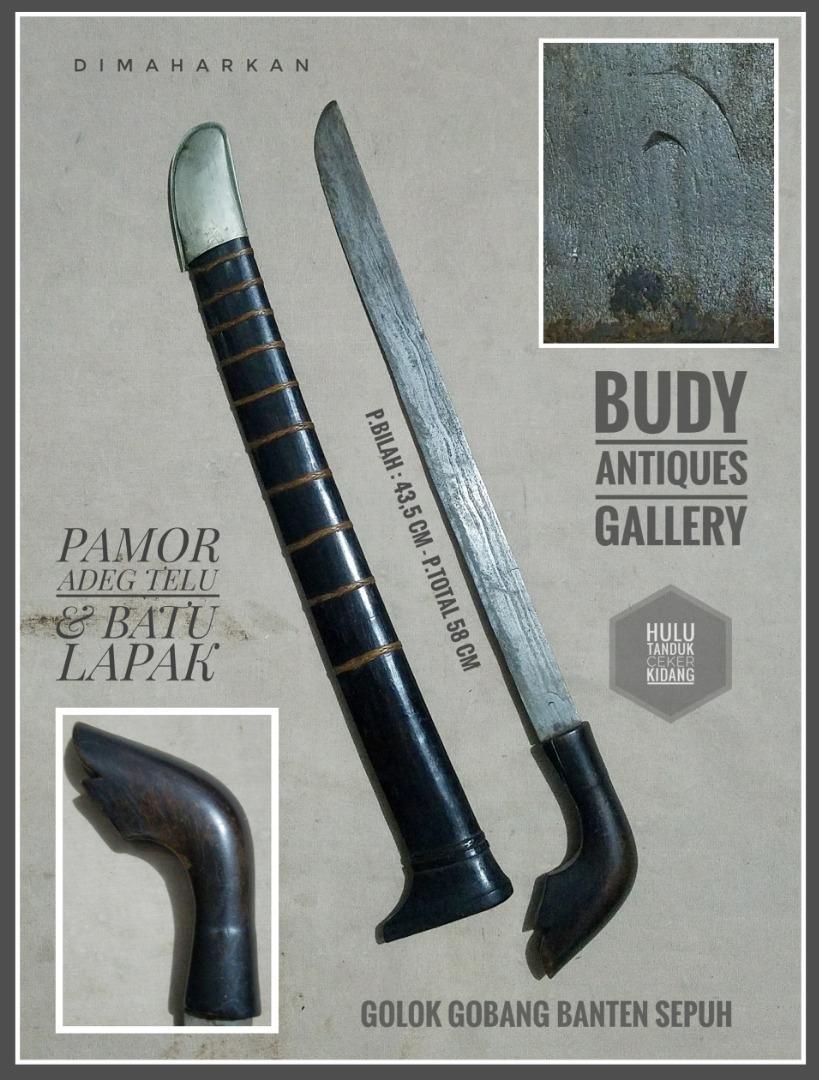facao: (309, 95, 639, 963)
